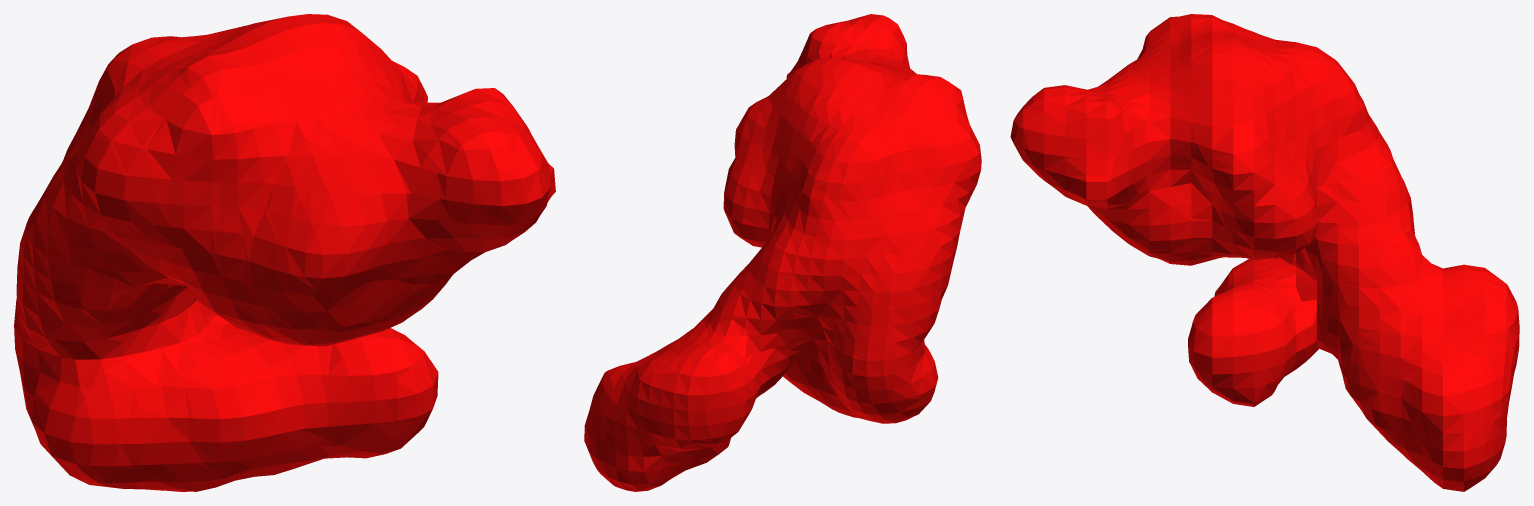
Rendered from mprA_coarse.dae.
The picture shows the model from 3 angles, left to right: view 1: azimuth 30°, elevation 25°; view 2: azimuth 150°, elevation 25°; view 3: azimuth 270°, elevation 25°; orthographic projection. The views are drawn at different scales.
Visible parts, largest first — view 1: mprA; view 2: mprA; view 3: mprA.
Part boxes in pixels (x1,y1,x2,y2): mprA: (14,14,555,491); mprA: (584,14,981,491); mprA: (1010,14,1519,491).
Size of the model in its own units: 43.72 by 54.83 by 64.55.
